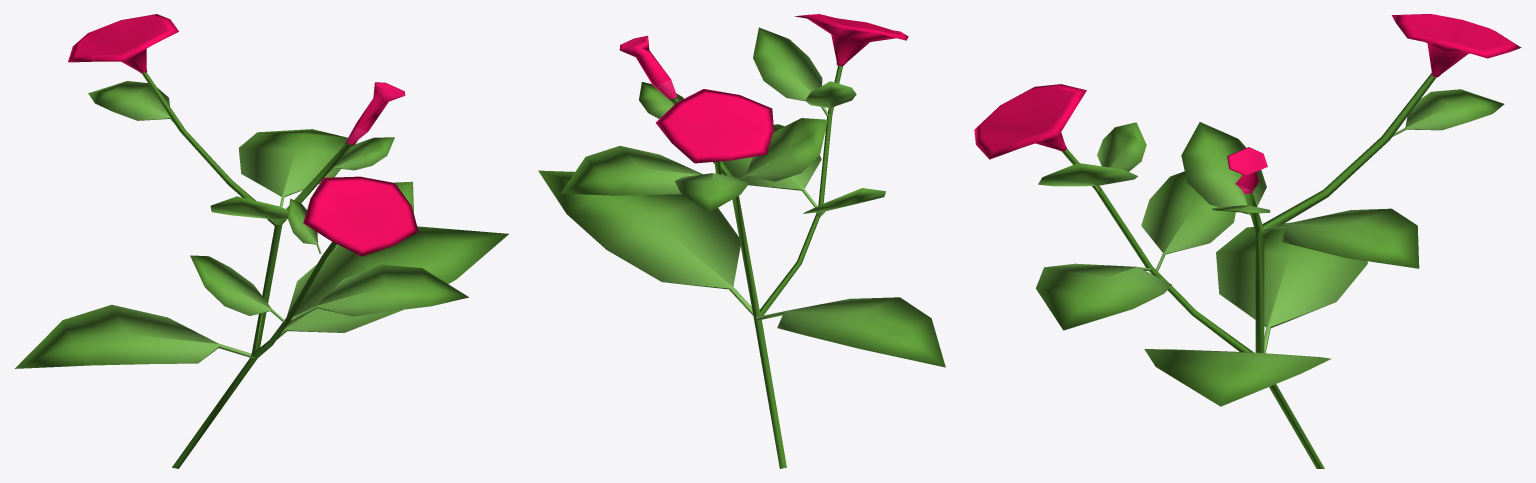
3 renders of one model, left to right at view 1: azimuth 30°, elevation 25°; view 2: azimuth 150°, elevation 25°; view 3: azimuth 270°, elevation 25°, orthographic. The views are drawn at different scales.
Visible parts, largest first — view 1: fp10; view 2: fp10; view 3: fp10.
Boxes of the visible parts, x1,y1,x2,y2 form: fp10: (15,14,508,468); fp10: (538,14,945,468); fp10: (974,14,1521,468).
Size of the model in its own units: 80.09 by 67.41 by 73.81.
